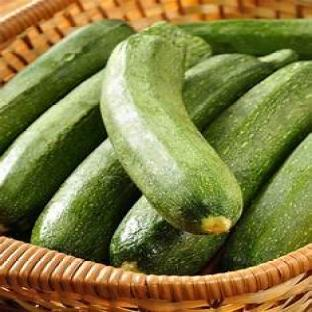Zucchini: (101, 35, 242, 232), (0, 20, 133, 153), (0, 70, 105, 224), (205, 62, 311, 203), (33, 140, 137, 262), (221, 135, 311, 270), (184, 49, 297, 130), (181, 19, 311, 59), (142, 21, 211, 68)
